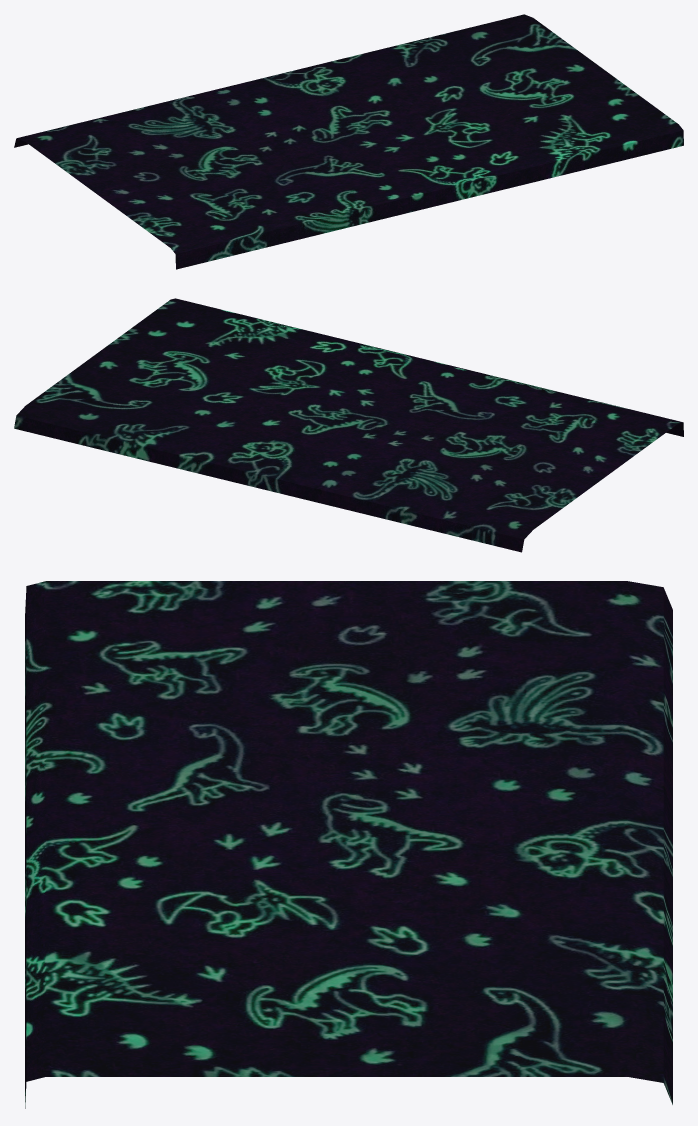
Rendered from BedsheetNight.fbx.
3 views of the same model, one above another, from view 1: azimuth 30°, elevation 25°; view 2: azimuth 150°, elevation 25°; view 3: azimuth 270°, elevation 25° (orthographic). The views are drawn at different scales.
Parts seen in each view (by area): view 1: pPlane10; view 2: pPlane10; view 3: pPlane10.
Boxes of the visible parts, x1,y1,x2,y2 form: pPlane10: (14, 14, 683, 269); pPlane10: (14, 298, 683, 552); pPlane10: (25, 581, 672, 1108).
Bounding box in the file's own units: 5.37 × 0.1776 × 2.97.
Materials: 1 (1 with a texture image).
